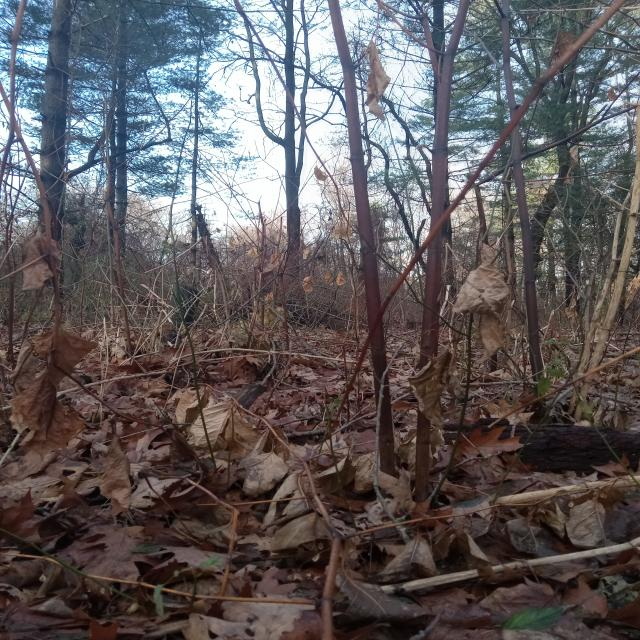knotweed-stems: (360, 1, 629, 500), (325, 0, 398, 492)
